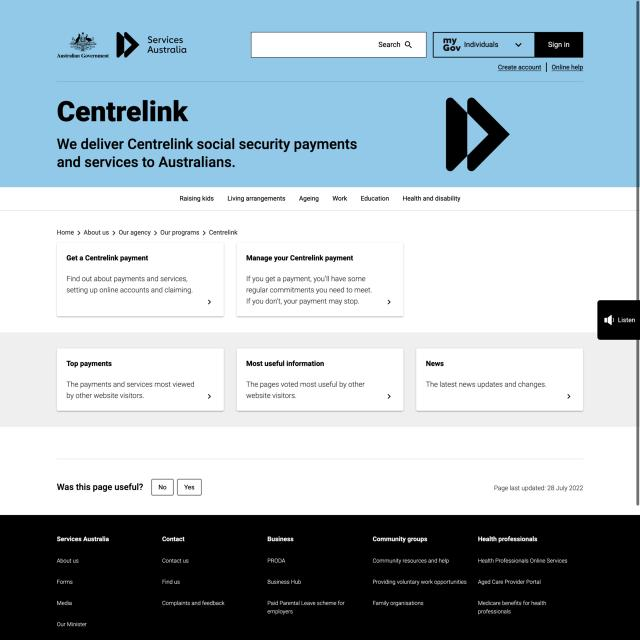footer: (0, 514, 640, 640)
input: (251, 31, 428, 58)
logo: (53, 27, 189, 63)
navigation: (175, 190, 471, 208)
